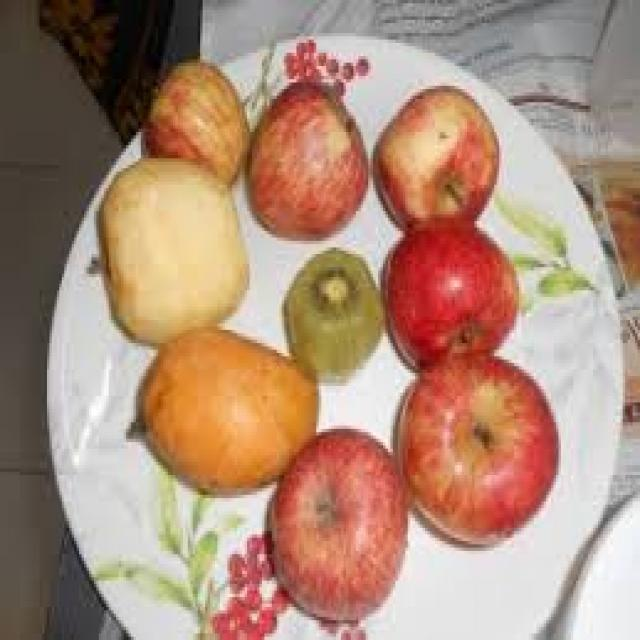organic waste: (126, 320, 316, 492), (393, 350, 558, 541), (264, 422, 406, 620), (87, 155, 247, 327), (240, 69, 368, 231), (371, 76, 499, 224), (381, 218, 516, 356), (277, 244, 383, 380), (138, 56, 252, 182)
